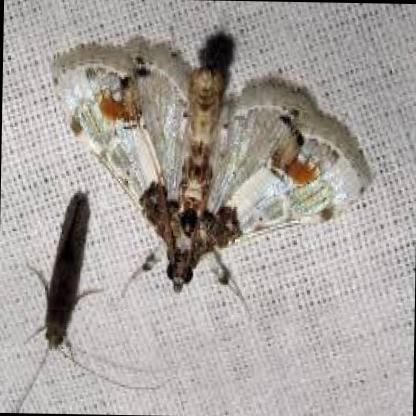leucinodes: (54, 57, 373, 290)
